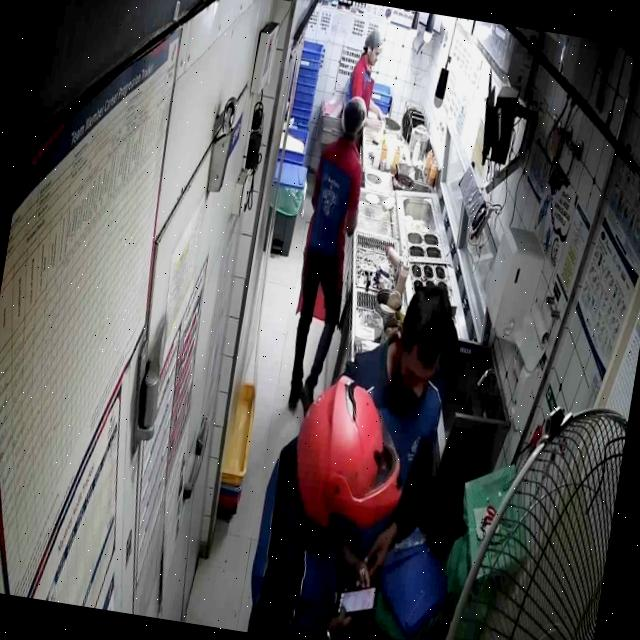no_helmet: (298, 377, 404, 527)
